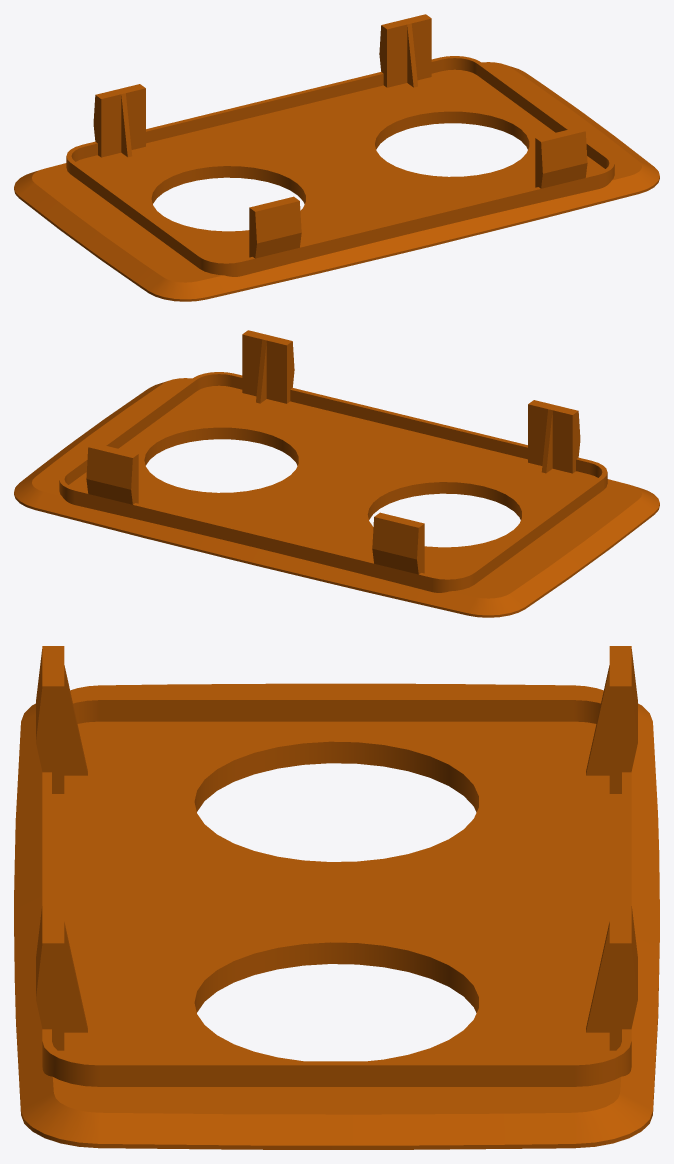
3 views of the same model, one above another, from view 1: azimuth 30°, elevation 25°; view 2: azimuth 150°, elevation 25°; view 3: azimuth 270°, elevation 25° (orthographic). The views are drawn at different scales.
Parts seen in each view (by area): view 1: front_center_console_2hole; view 2: front_center_console_2hole; view 3: front_center_console_2hole.
Boxes of the visible parts, x1,y1,x2,y2 form: front_center_console_2hole: (14,14,659,301); front_center_console_2hole: (14,330,659,617); front_center_console_2hole: (14,646,659,1149).
Bounding box in the file's own units: 0.1143 × 0.015 × 0.068.
